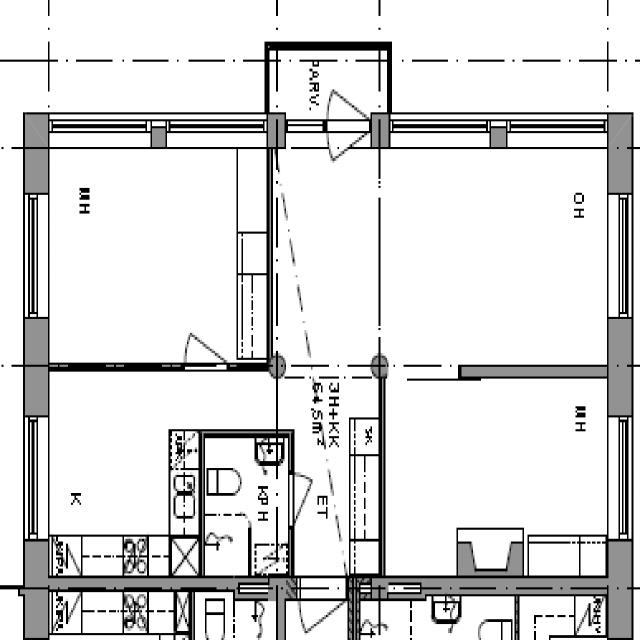door: (328, 56, 370, 148), (328, 113, 370, 205), (185, 305, 227, 371), (288, 472, 332, 525)
